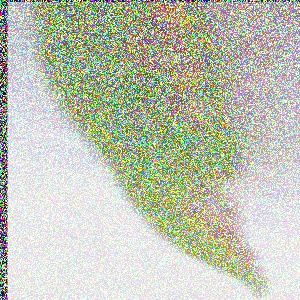Brown_Spot: (164, 172, 268, 264), (121, 8, 210, 81), (153, 77, 227, 128)
